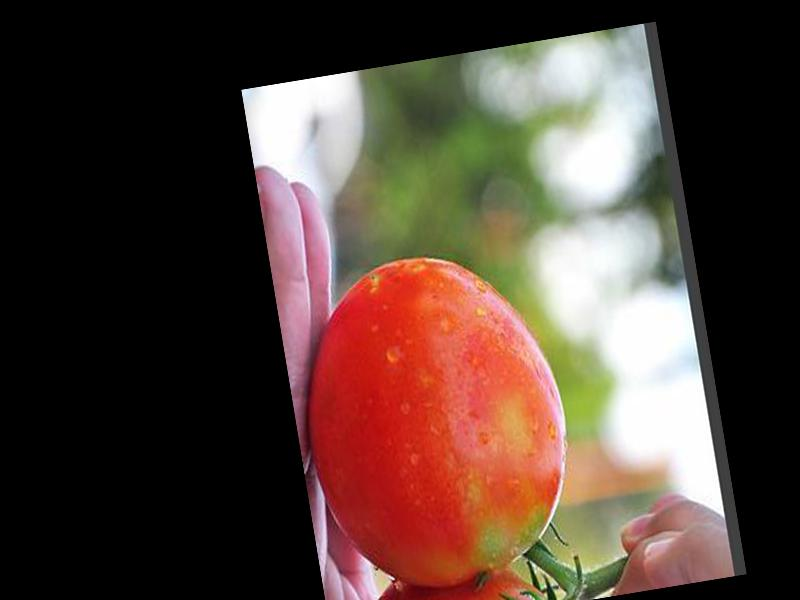Tomato: (286, 239, 588, 600)
